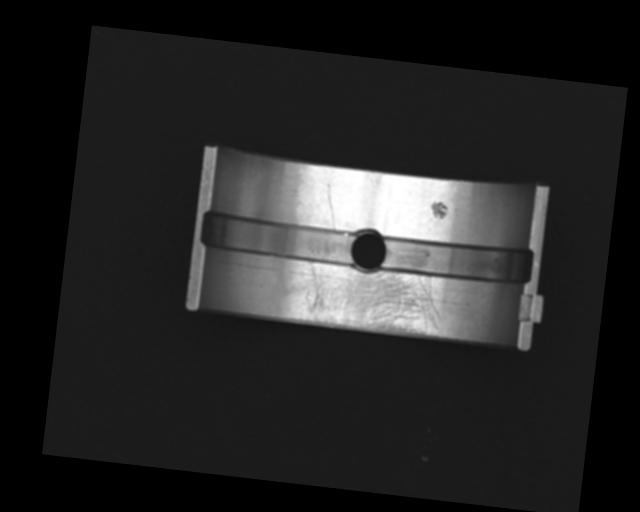bruise: (429, 199, 449, 221)
gap: (200, 211, 357, 266), (379, 234, 534, 286)
hole: (347, 228, 389, 274)
nick: (322, 182, 341, 230)
scratch: (285, 259, 445, 338)
